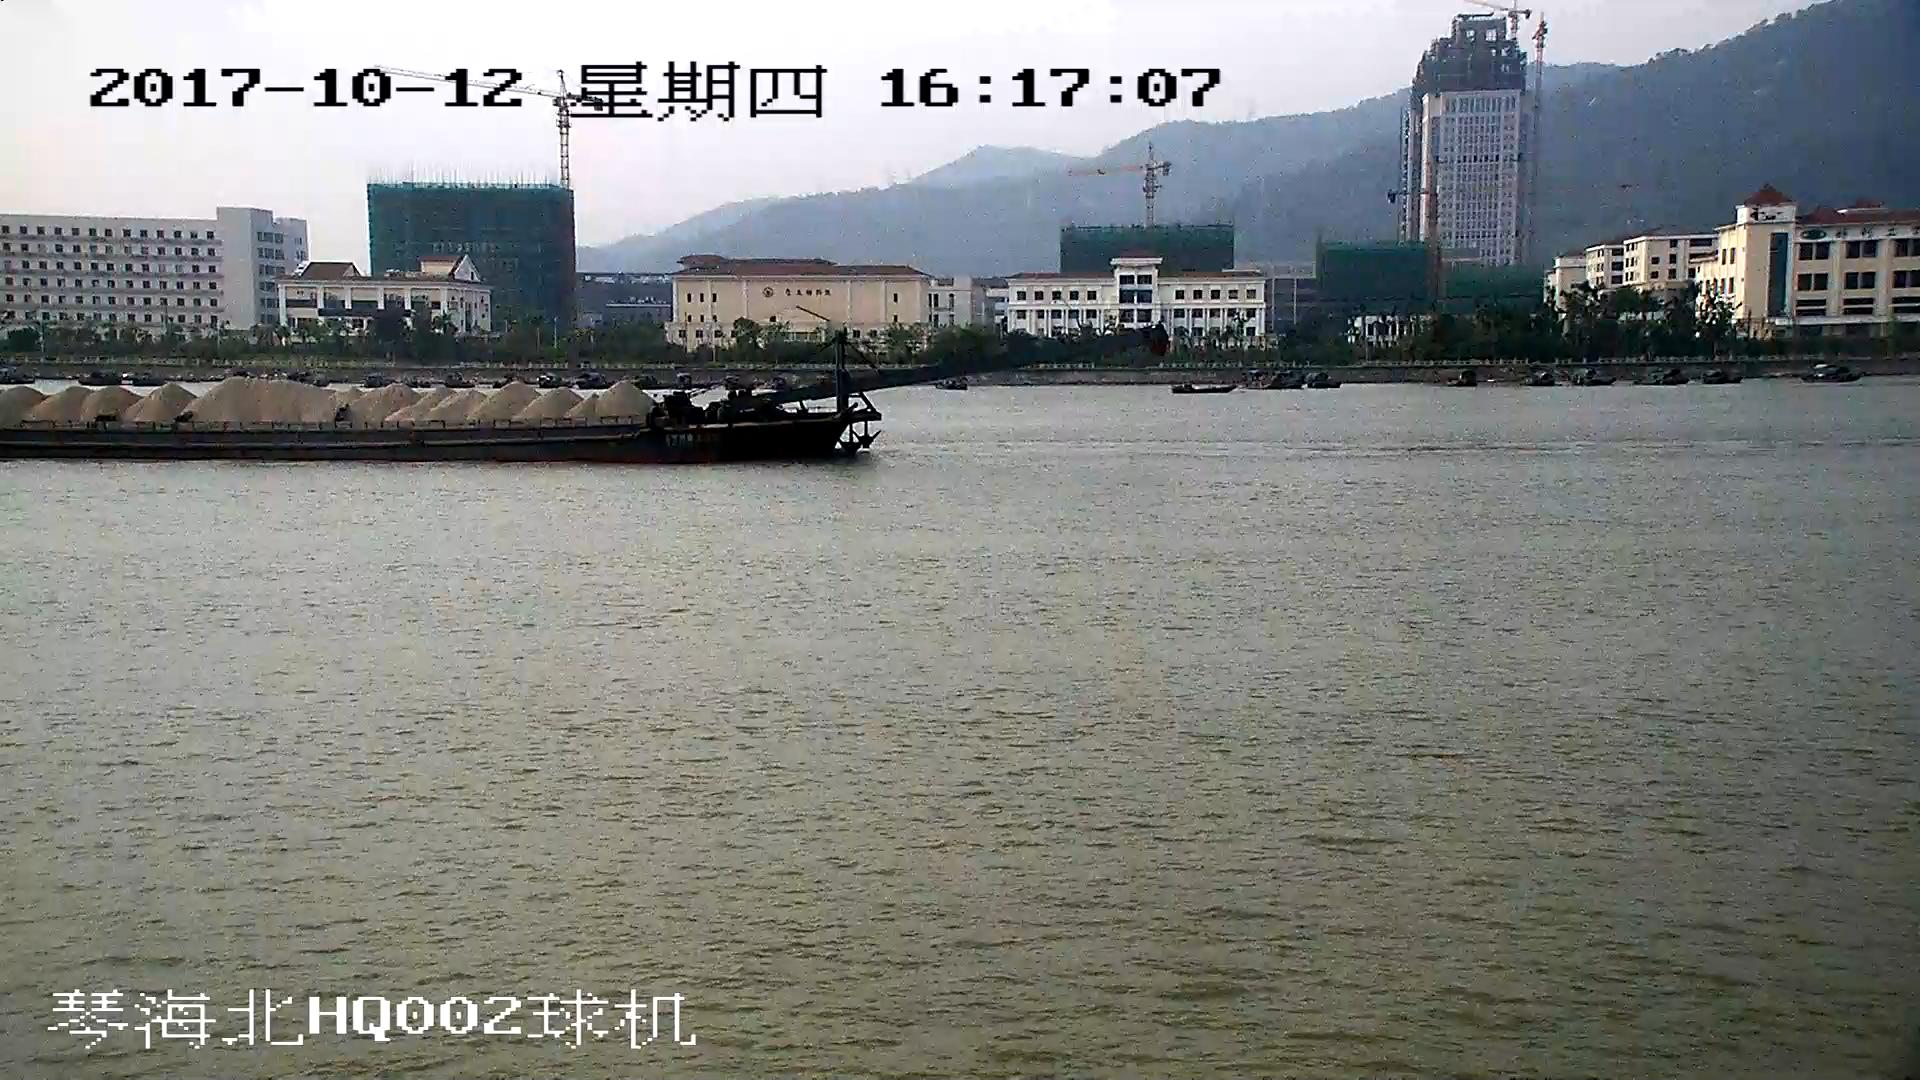ore carrier: (1, 324, 1159, 457)
